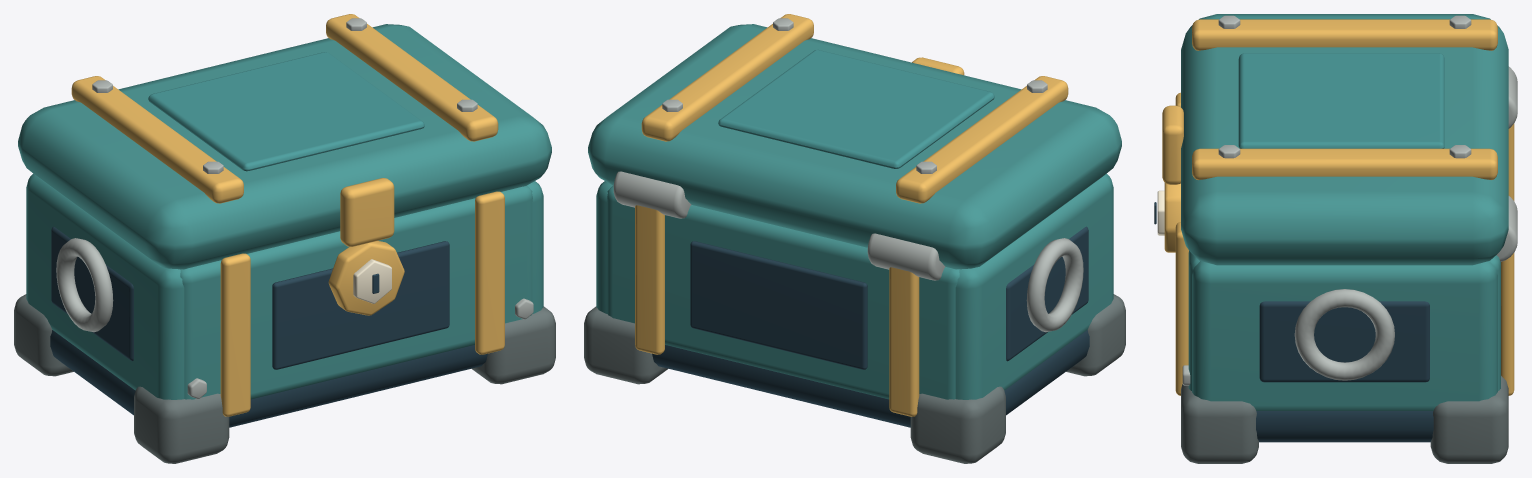
The model's file is discovery-chest.glb.
The picture shows the model from 3 angles, left to right: view 1: azimuth 30°, elevation 25°; view 2: azimuth 150°, elevation 25°; view 3: azimuth 270°, elevation 25°; orthographic projection. The views are drawn at different scales.
Parts seen in each view (by area): view 1: Lid_Station teal enamel, Chest_Station teal enamel, Chest_Midnight blue, Lid_Teal accents, Lid_Brass details, Chest_Brass details, Chest_Gunmetal, Chest_Brushed steel, Chest_Warm ivory, Lid_Brushed steel; view 2: Lid_Station teal enamel, Chest_Station teal enamel, Chest_Midnight blue, Lid_Teal accents, Lid_Brass details, Chest_Gunmetal, Chest_Brass details, Lid_Brushed steel, Chest_Brushed steel; view 3: Lid_Station teal enamel, Chest_Station teal enamel, Lid_Teal accents, Lid_Brass details, Chest_Midnight blue, Chest_Gunmetal, Chest_Brass details, Chest_Brushed steel, Lid_Brushed steel.
Boxes of the visible parts, x1,y1,x2,y2 form: Lid_Station teal enamel: (18, 24, 551, 269); Chest_Station teal enamel: (26, 173, 543, 399); Chest_Midnight blue: (50, 226, 487, 427); Lid_Teal accents: (148, 52, 424, 171); Lid_Brass details: (71, 14, 498, 246); Chest_Brass details: (220, 191, 504, 416); Chest_Gunmetal: (14, 294, 555, 463); Chest_Brushed steel: (56, 238, 533, 398); Chest_Warm ivory: (353, 259, 391, 303); Lid_Brushed steel: (92, 18, 477, 173); Lid_Station teal enamel: (588, 24, 1121, 269); Chest_Station teal enamel: (596, 173, 1113, 399); Chest_Midnight blue: (652, 226, 1089, 427); Lid_Teal accents: (718, 49, 994, 168); Lid_Brass details: (641, 14, 1068, 203); Chest_Gunmetal: (584, 294, 1125, 463); Chest_Brass details: (635, 205, 919, 416); Lid_Brushed steel: (613, 18, 1047, 280); Chest_Brushed steel: (1026, 238, 1083, 332); Lid_Station teal enamel: (1181, 14, 1508, 265); Chest_Station teal enamel: (1188, 251, 1500, 410); Lid_Teal accents: (1238, 53, 1444, 148); Lid_Brass details: (1162, 19, 1497, 184); Chest_Midnight blue: (1154, 202, 1433, 442); Chest_Gunmetal: (1181, 376, 1508, 463); Chest_Brass details: (1164, 92, 1514, 395); Chest_Brushed steel: (1182, 289, 1394, 385); Lid_Brushed steel: (1218, 15, 1517, 261).
Bounding box in the file's own units: 1.61 × 1.01 × 1.16.
